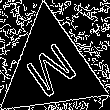M_SE: (20, 35, 82, 102)
